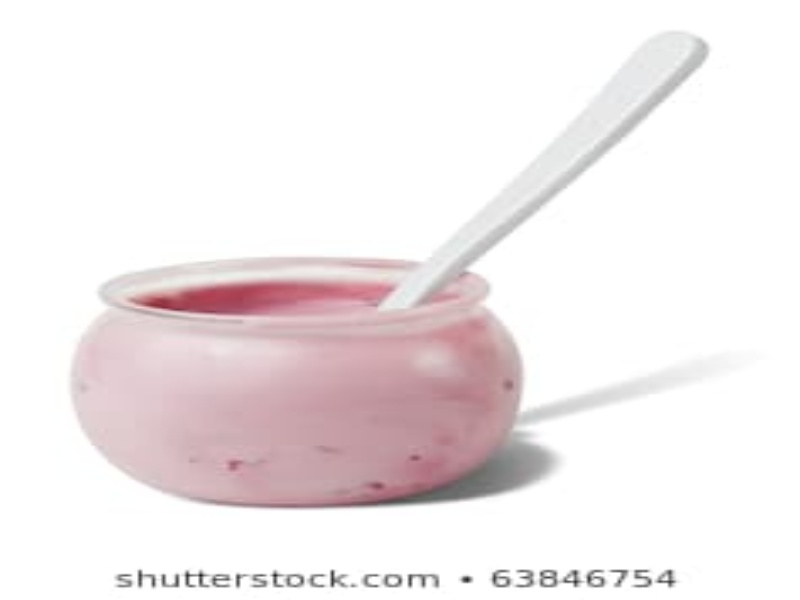yogurt-cup: (67, 254, 524, 506)
